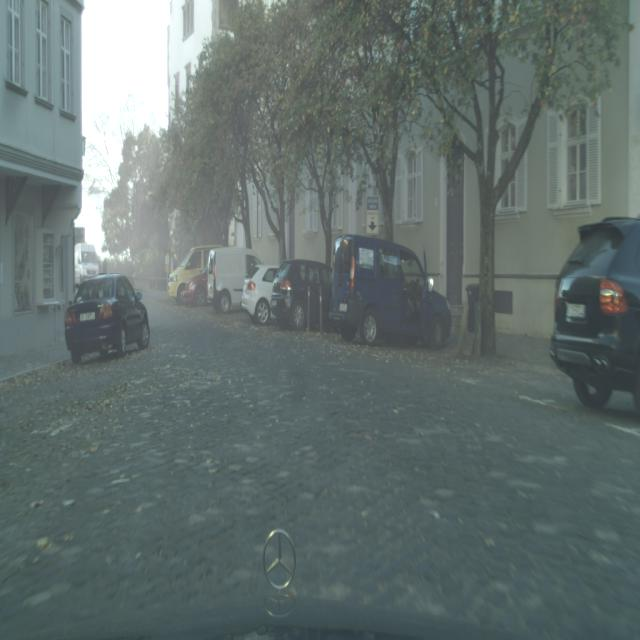bicycle: (329, 232, 452, 348), (208, 247, 262, 314)
bus: (550, 215, 640, 417), (330, 233, 452, 348), (65, 272, 151, 364), (270, 259, 332, 331), (167, 244, 222, 306), (240, 263, 279, 325)
